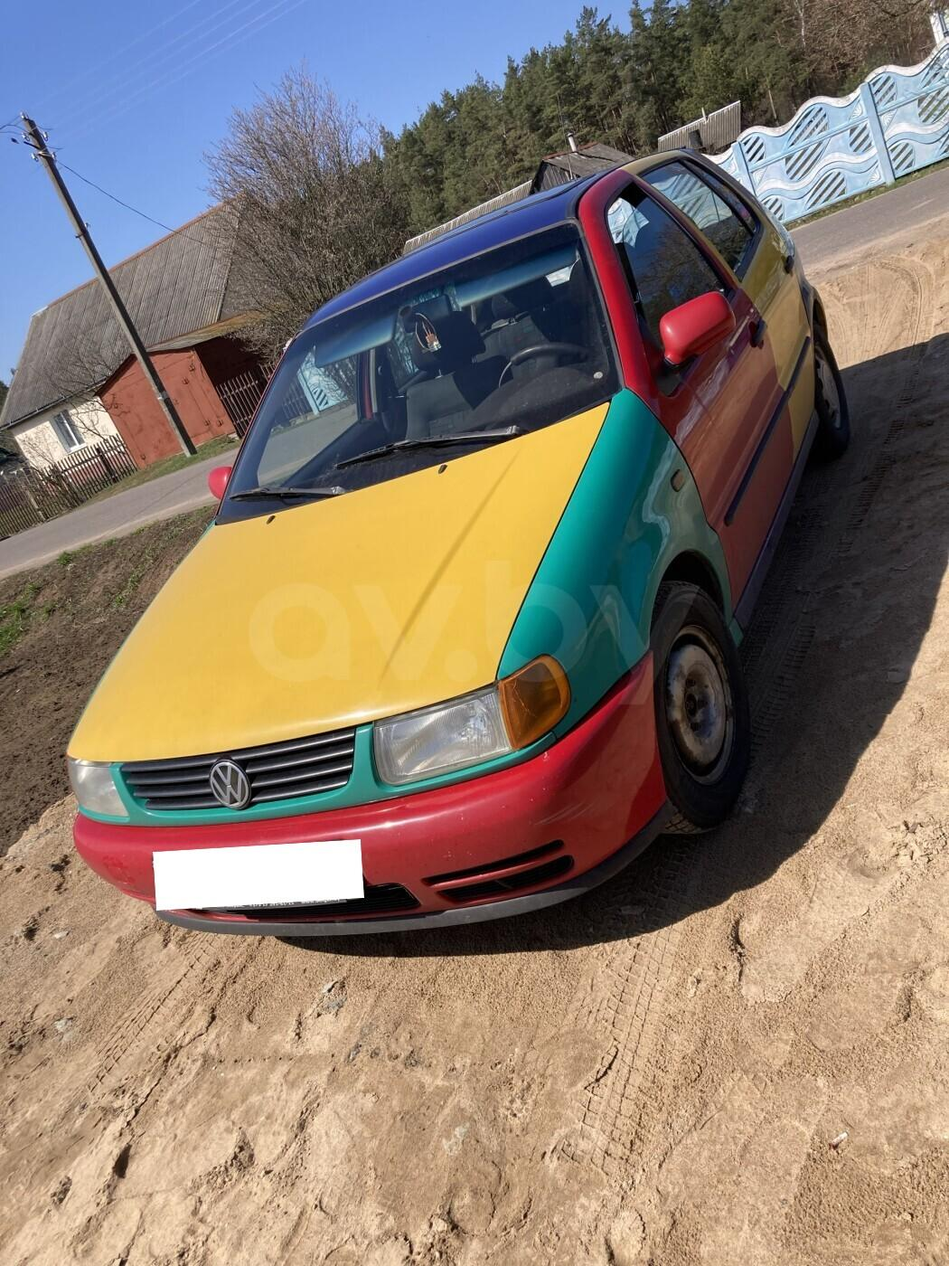Polo_1994-2002: (56, 142, 859, 984)
